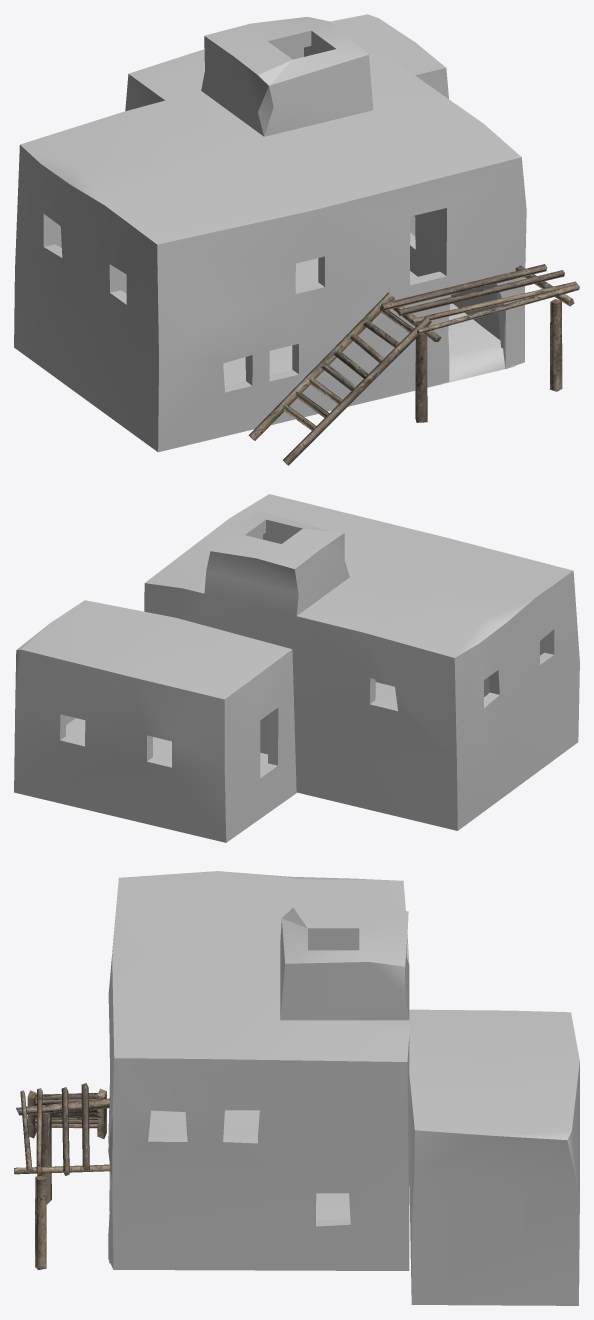
Rendered from House_01_LOD2.fbx.
3 renders of one model, top to bottom at view 1: azimuth 30°, elevation 25°; view 2: azimuth 150°, elevation 25°; view 3: azimuth 270°, elevation 25°, orthographic. The views are drawn at different scales.
Visible parts, largest first — view 1: polySurface1095; view 2: polySurface1095; view 3: polySurface1095.
Boxes of the visible parts, x1,y1,x2,y2 form: polySurface1095: (14, 14, 579, 465); polySurface1095: (14, 494, 579, 842); polySurface1095: (14, 871, 579, 1305).
Bounding box in the file's own units: 12.25 × 7.19 × 13.16.
